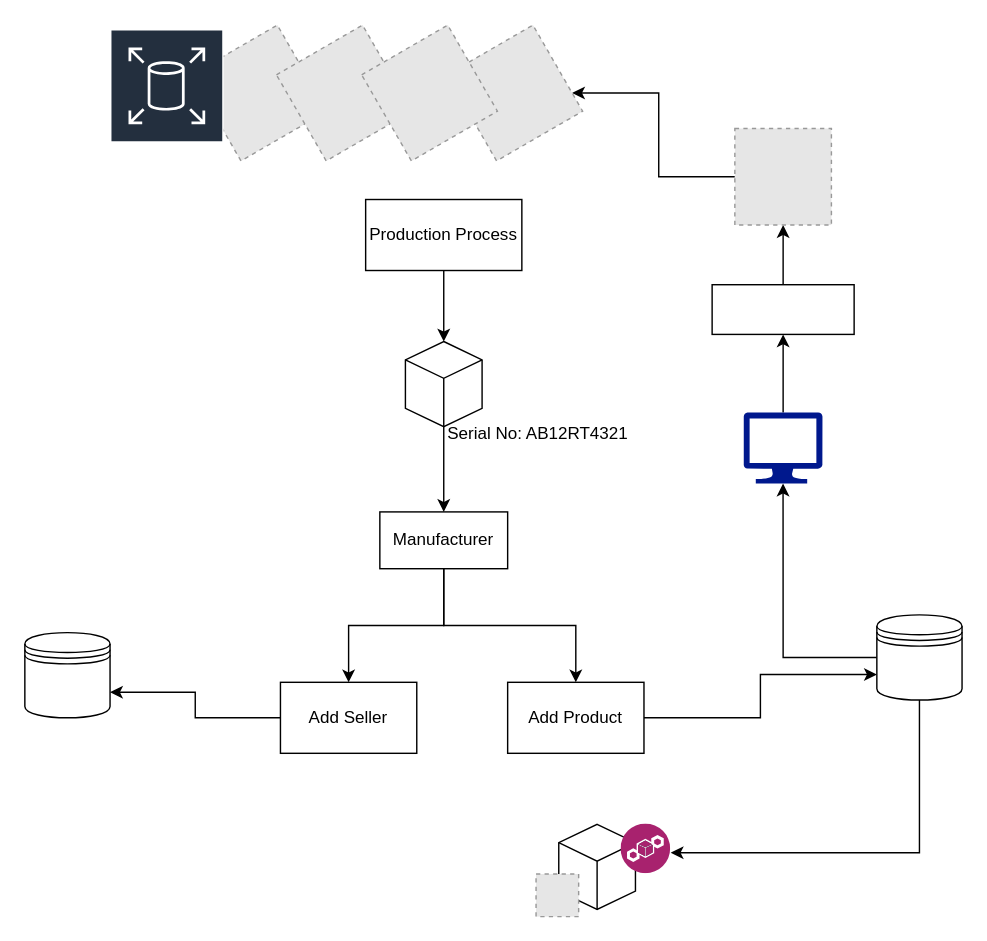
Image size: 987x941. Some labels were removed from this diagram. Grey dashed boxes stand in for pictures. Each missing label, with the centre of its shape:
blockchain: (x=166, y=106)
WEB3: (x=782, y=308)
